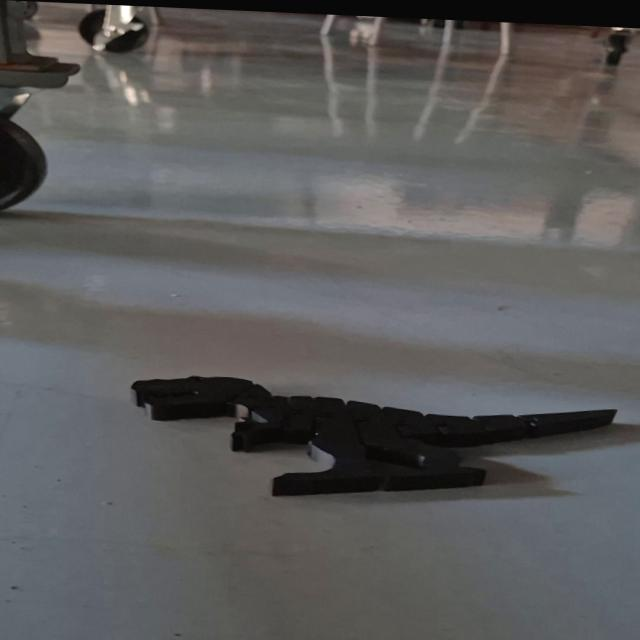dino: (129, 372, 619, 514)
